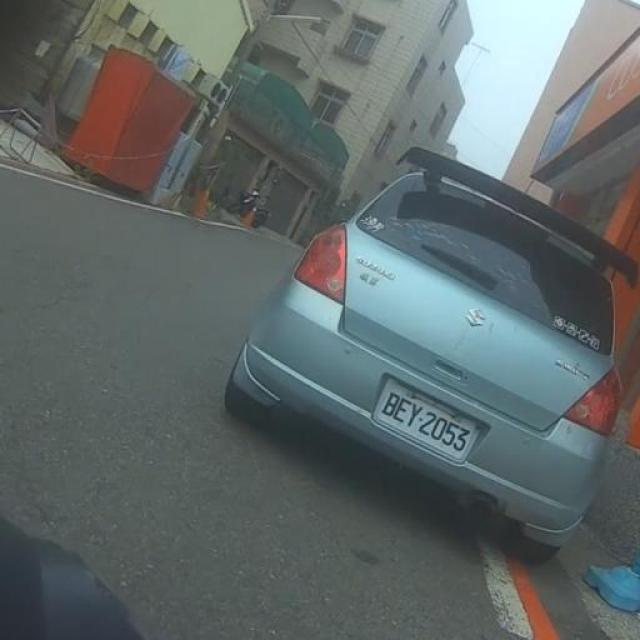illegalparking: (228, 148, 636, 560)
